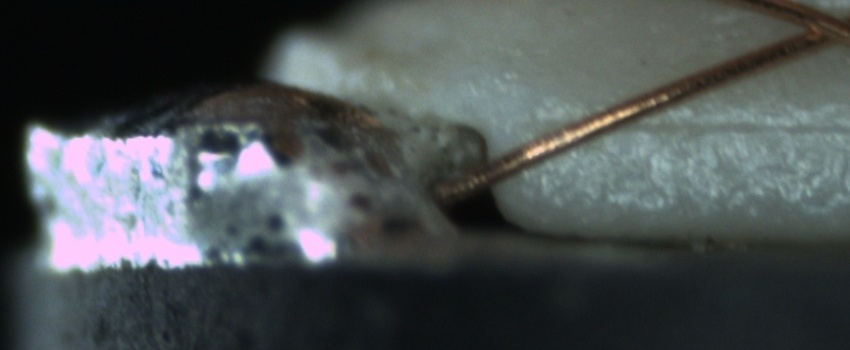CL: (772, 4, 848, 55)
DL: (549, 92, 850, 157)
